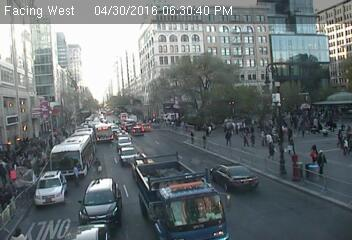neg: (251, 46, 273, 76), (16, 90, 37, 117), (143, 106, 161, 130), (175, 30, 193, 54), (28, 54, 46, 77), (131, 120, 146, 141), (112, 134, 127, 154), (213, 37, 226, 56), (156, 39, 169, 56), (235, 80, 248, 96), (332, 83, 344, 99), (309, 68, 320, 83), (252, 97, 260, 107)
pos: (309, 148, 333, 181), (303, 142, 324, 170), (66, 161, 85, 186), (218, 128, 236, 152), (263, 139, 280, 162), (282, 134, 299, 157), (337, 134, 351, 160), (197, 133, 213, 154), (184, 129, 200, 150), (237, 131, 253, 152), (281, 125, 297, 146), (332, 126, 347, 146), (248, 132, 259, 146), (205, 124, 215, 137)
